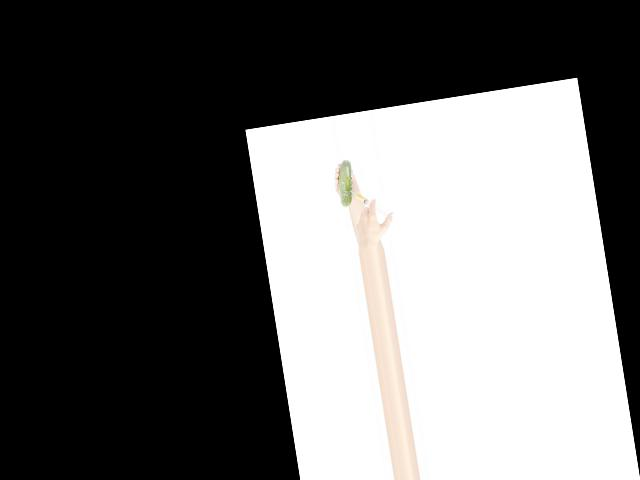cucumber: (334, 158, 356, 206)
